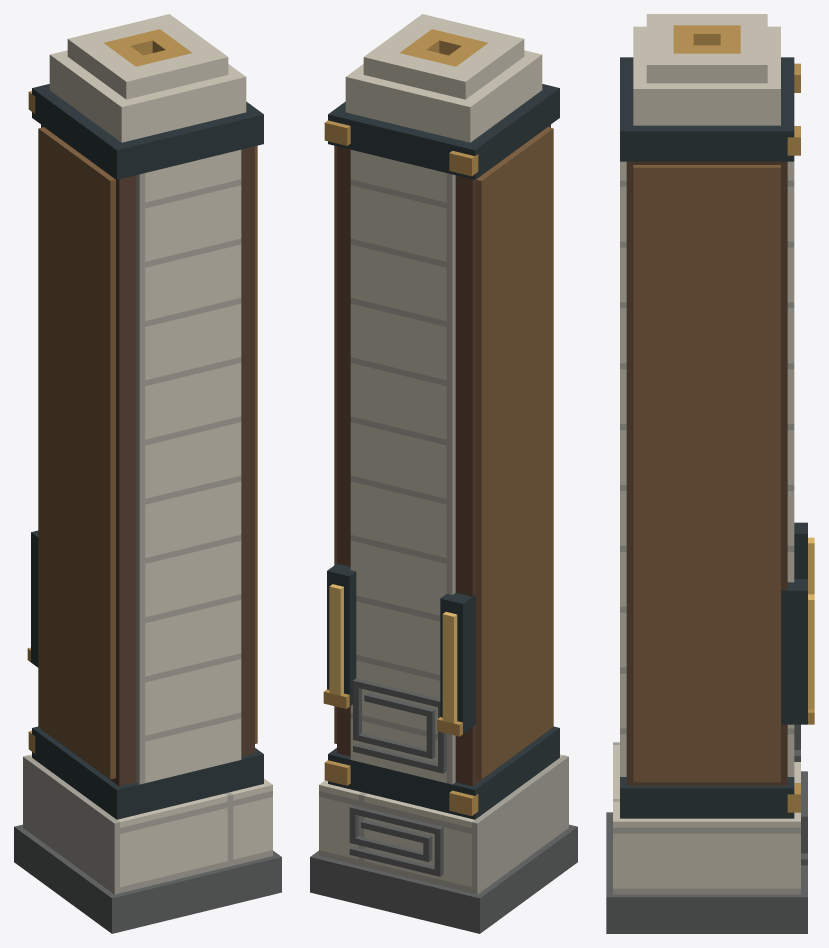
3 views of the same model, side by side, from view 1: azimuth 30°, elevation 25°; view 2: azimuth 150°, elevation 25°; view 3: azimuth 270°, elevation 25° (orthographic). The views are drawn at different scales.
Parts seen in each view (by area): view 1: 旧钱庄入口石柱; view 2: 旧钱庄入口石柱; view 3: 旧钱庄入口石柱.
Part boxes in pixels (x1,y1,x2,y2): 旧钱庄入口石柱: (14,14,281,933); 旧钱庄入口石柱: (310,14,577,933); 旧钱庄入口石柱: (606,14,814,933).
Bounding box in the file's own units: 1.2 × 5.6 × 1.24.
8 materials, 8 textured.
